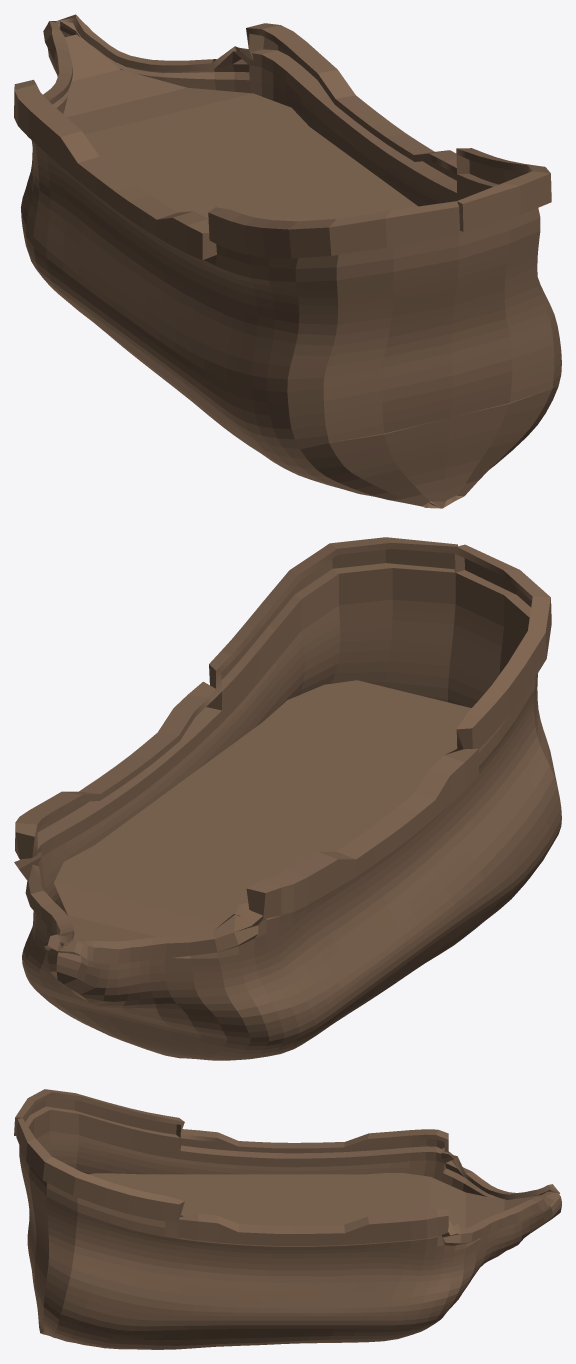
File: vasa.FBX
3 views of the same model, one above another, from view 1: azimuth 30°, elevation 25°; view 2: azimuth 150°, elevation 25°; view 3: azimuth 270°, elevation 25° (orthographic). The views are drawn at different scales.
Visible parts, largest first — view 1: Plane002, Plane003; view 2: Plane002, Plane003; view 3: Plane002, Plane003.
Boxes of the visible parts, <box> form: Plane002: <box>14,14,561,508</box>; Plane003: <box>63,34,418,221</box>; Plane002: <box>14,537,561,1060</box>; Plane003: <box>54,680,471,944</box>; Plane002: <box>14,1089,561,1349</box>; Plane003: <box>89,1173,540,1228</box>.
Size of the model in its own units: 44.73 by 48.57 by 112.
